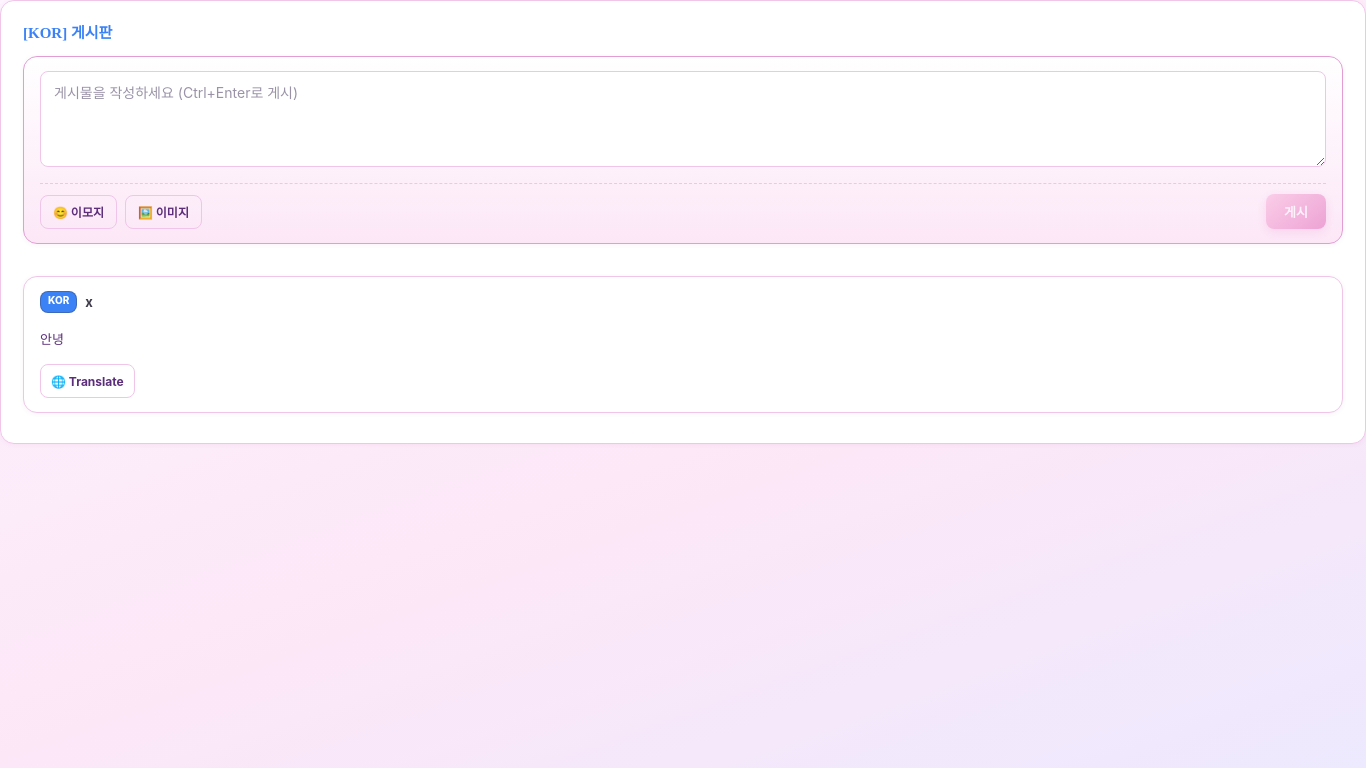
Board 번역 › 빈 응답도 실패로 보인다
Click the button "🌐 Translate" at (87,381), box [40,364,135,398]
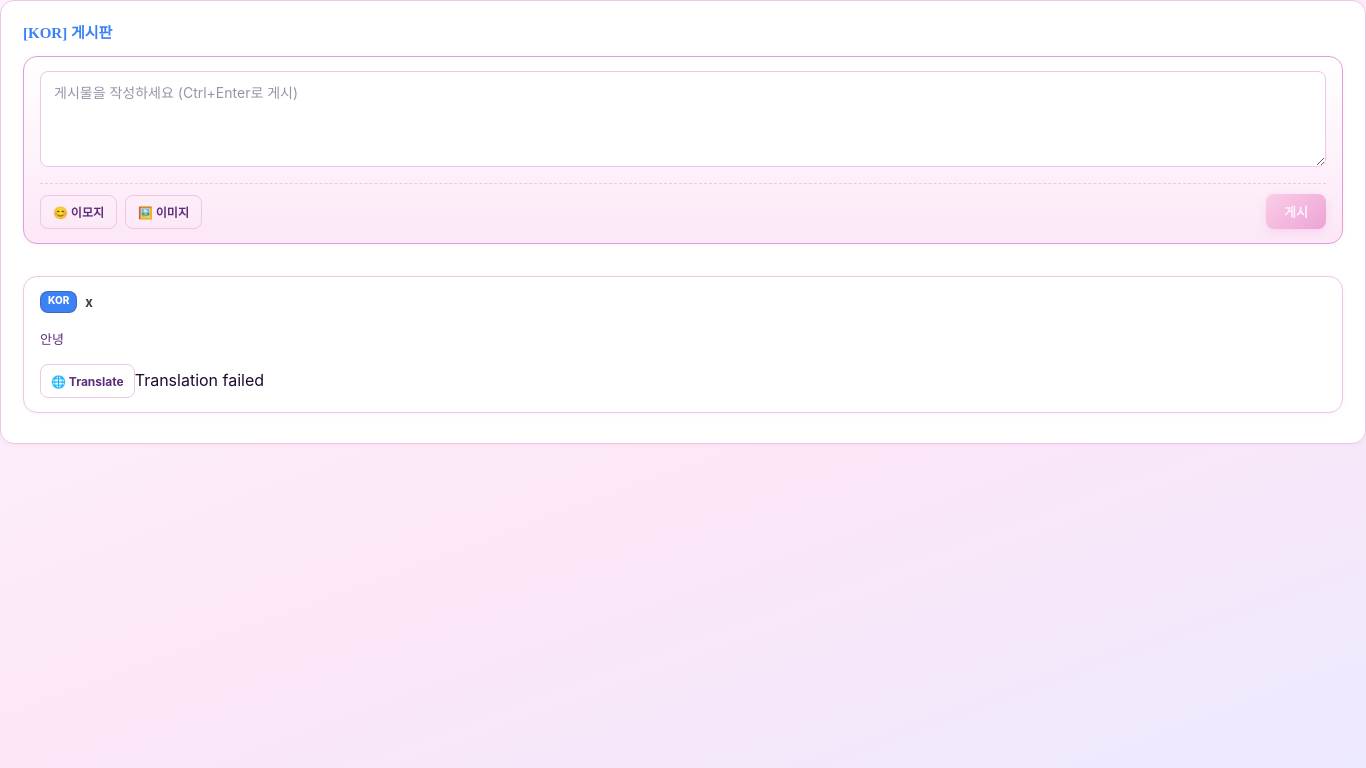
Expected: the text "Translation failed" is shown, [135,370,264,390]
